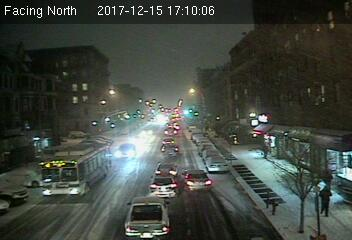bus: (39, 142, 111, 196)
car: (125, 196, 172, 240), (181, 168, 211, 189), (148, 175, 178, 196), (207, 157, 230, 172), (114, 144, 137, 158), (155, 161, 176, 176), (161, 144, 178, 155)
